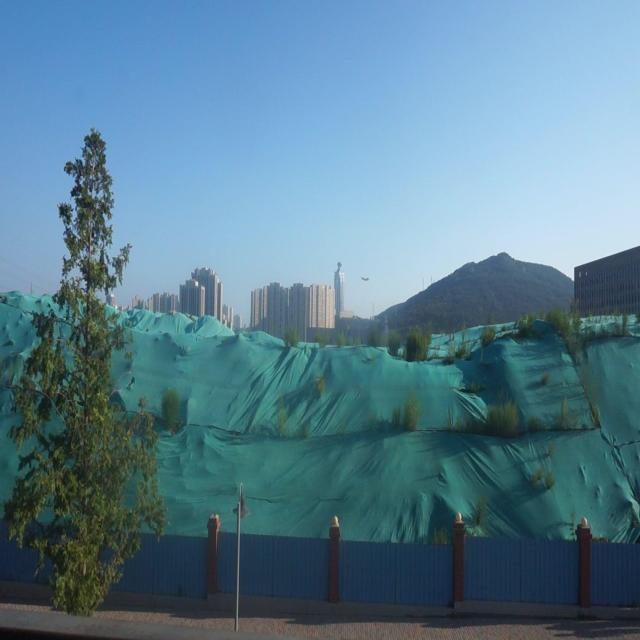UAV: (361, 277, 369, 281)
